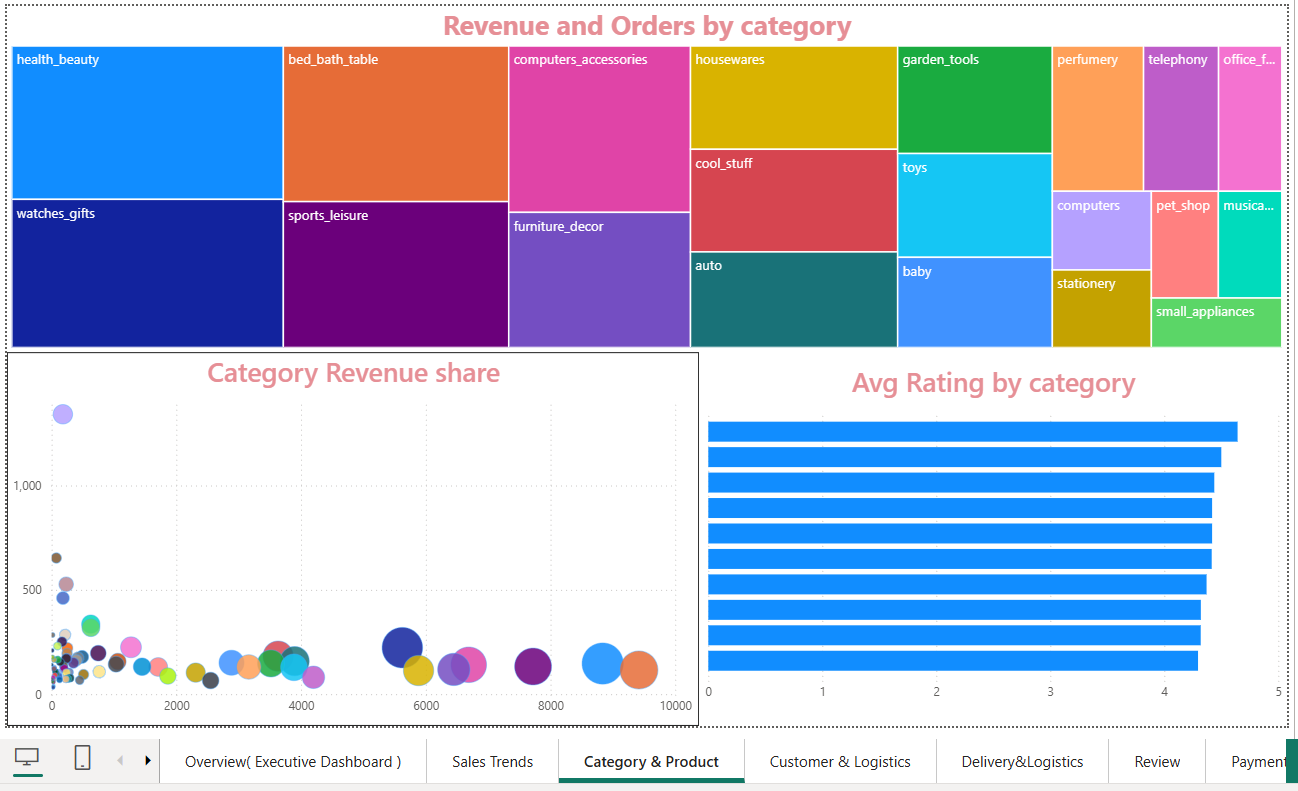

The dashboard page shown, as its layout file describes it:
{"tool":"powerbi","page":{"name":"Category & Product","canvas":[1280,720],"ordinal":2},"visuals":[{"type":"treemap","fields":{"Group":["public bi_fact_sales.category"],"Values":["public bi_fact_sales.Revenue"]},"box":[0,0,1280,346.7],"z":0},{"type":"scatterChart","title":"Category Revenue share ","fields":{"X":["public bi_fact_sales.Orders"],"Y":["public bi_fact_sales.AOV"],"Series":["public bi_fact_sales.category"],"Size":["public bi_fact_sales.Revenue"]},"box":[0,346.7,691.7,373.3],"z":1000},{"type":"barChart","title":"Avg Rating by category","fields":{"Category":["public bi_fact_sales.category"],"Y":["public bi_fact_sales.Avg Rating"]},"box":[692,357,588,347],"z":2000}]}

Visuals, with their boxes on the page's 1280x720 design canvas (x1, y1, x2, y2). These are canvas units, not pixel positions in the 1298x791 screenshot, which may show the page scaled, cropped or inside an application window:
treemap - public bi_fact_sales.category x public bi_fact_sales.Revenue: pyautogui.locateOnScreen(0, 0, 1280, 347)
"Category Revenue share " scatterChart: pyautogui.locateOnScreen(0, 347, 692, 720)
"Avg Rating by category" barChart: pyautogui.locateOnScreen(692, 357, 1280, 704)
